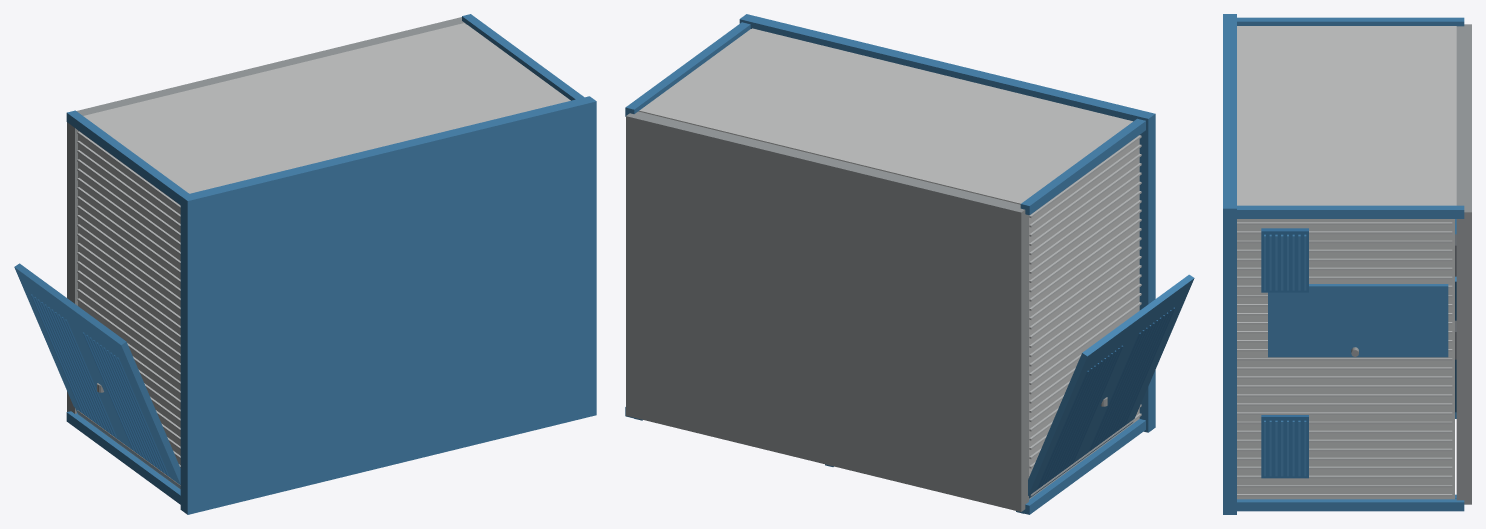
Rendered from kazakhtelecom_substation_no_signs.glb.
The picture shows the model from 3 angles, left to right: view 1: azimuth 30°, elevation 25°; view 2: azimuth 150°, elevation 25°; view 3: azimuth 270°, elevation 25°; orthographic projection. The views are drawn at different scales.
Visible parts, largest first — view 1: roof, SOLID REAR WALL, side wall -1, OPEN BLUE DOOR 1, floor steel plate, corner post -2.9 2.1, corner post -2.9 -2.1, corner post 2.9 2.1; view 2: floor steel plate, SOLID REAR WALL, side wall -1, roof, OPEN BLUE DOOR 1, corner post -2.9 2.1, corner post -2.9 -2.1, corner post 2.9 2.1; view 3: SOLID REAR WALL, side wall 1, right personnel door, floor steel plate, roof, corner post 2.9 2.1, corner post 2.9 -2.1, wall vent base 1, wall vent base 0, corner post -2.9 2.1, corrugation side 1 2, corrugation side 1 29 (+21 smaller).
Part boxes in pixels (box(x1,y1,x2,y2)): roof: box(180, 96, 596, 514); SOLID REAR WALL: box(83, 23, 569, 193); side wall -1: box(78, 130, 180, 488); OPEN BLUE DOOR 1: box(14, 263, 180, 487); floor steel plate: box(67, 17, 465, 413); corner post -2.9 2.1: box(66, 110, 188, 204); corner post -2.9 -2.1: box(66, 411, 180, 504); corner post 2.9 2.1: box(462, 14, 584, 100); floor steel plate: box(626, 111, 1028, 511); SOLID REAR WALL: box(640, 28, 1132, 204); side wall -1: box(1029, 135, 1139, 499); roof: box(739, 14, 1155, 432); OPEN BLUE DOOR 1: box(1028, 274, 1194, 498); corner post -2.9 2.1: box(1020, 118, 1145, 215); corner post -2.9 -2.1: box(1020, 419, 1145, 514); corner post 2.9 2.1: box(625, 22, 750, 116); SOLID REAR WALL: box(1237, 26, 1456, 205); side wall 1: box(1237, 219, 1454, 499); right personnel door: box(1268, 284, 1448, 357); floor steel plate: box(1456, 24, 1471, 504); roof: box(1223, 14, 1236, 514); corner post 2.9 2.1: box(1237, 205, 1464, 218); corner post 2.9 -2.1: box(1237, 499, 1464, 511); wall vent base 1: box(1261, 228, 1308, 292); wall vent base 0: box(1261, 415, 1308, 478); corner post -2.9 2.1: box(1237, 17, 1464, 26); corrugation side 1 2: box(1237, 475, 1452, 478); corrugation side 1 29: box(1237, 231, 1452, 234).
Size of the model in its own units: 6.84 by 4.4 by 3.24.
